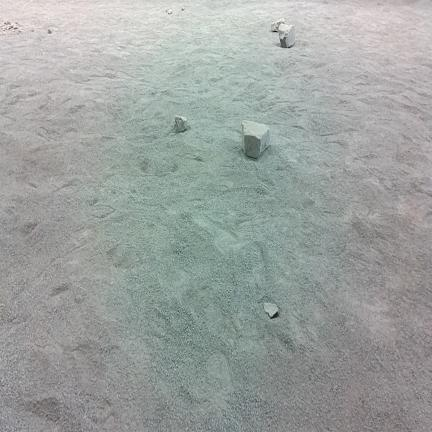Rock: (242, 121, 269, 157), (279, 24, 294, 47), (264, 303, 278, 318), (175, 116, 187, 133), (272, 18, 285, 32), (167, 9, 172, 14), (181, 6, 185, 11), (14, 25, 18, 29), (6, 22, 10, 25), (48, 30, 51, 33), (2, 29, 6, 31)
